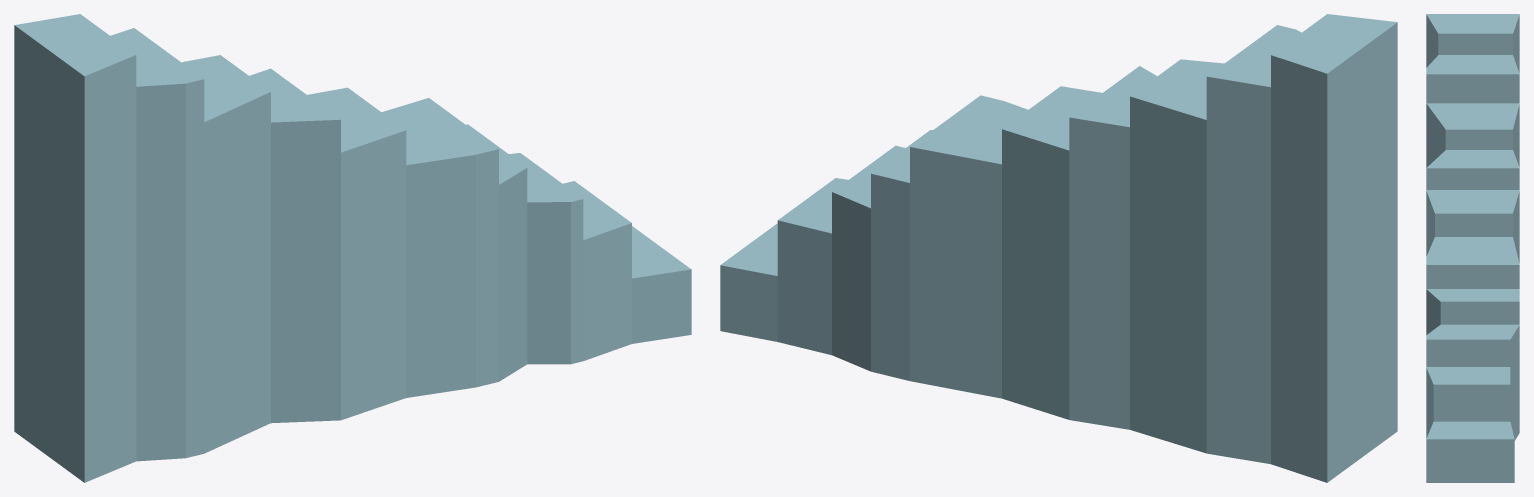
Rendered from Terrain_Modular_Tiles_Ice_Stairs_01.fbx.
3 renders of one model, left to right at view 1: azimuth 30°, elevation 25°; view 2: azimuth 150°, elevation 25°; view 3: azimuth 270°, elevation 25°, orthographic. The views are drawn at different scales.
Visible parts, largest first — view 1: Terrain_Modular_Tiles_Ice_Stairs_01; view 2: Terrain_Modular_Tiles_Ice_Stairs_01; view 3: Terrain_Modular_Tiles_Ice_Stairs_01.
Part boxes in pixels (x1,y1,x2,y2): Terrain_Modular_Tiles_Ice_Stairs_01: [14, 14, 691, 482]; Terrain_Modular_Tiles_Ice_Stairs_01: [720, 14, 1397, 482]; Terrain_Modular_Tiles_Ice_Stairs_01: [1426, 14, 1519, 482].
Size of the model in its own units: 148 by 94.49 by 29.53.
